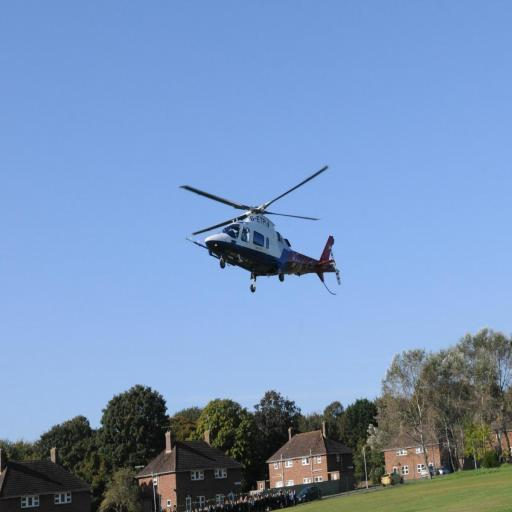helicopter: (186, 143, 352, 302)
